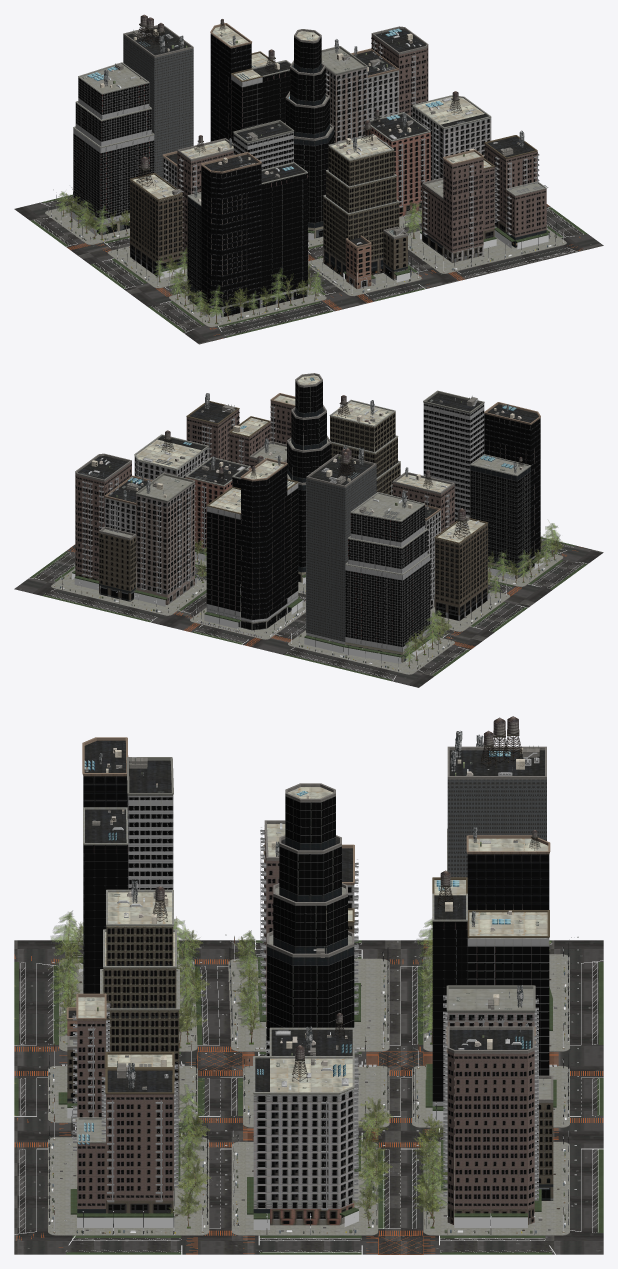
File: nyc.glb
3 views of the same model, one above another, from view 1: azimuth 30°, elevation 25°; view 2: azimuth 150°, elevation 25°; view 3: azimuth 270°, elevation 25° (orthographic). The views are drawn at different scales.
Parts seen in each view (by area): view 1: CityGen Buildings.001_2_56, CityGen Buildings_1_27, Plane.018_0_3; view 2: CityGen Buildings.001_2_56, CityGen Buildings_1_27, Plane.018_0_3; view 3: Plane.018_0_3, CityGen Buildings_1_27, CityGen Buildings.001_2_56.
Boxes of the visible parts, x1=… form: CityGen Buildings.001_2_56: x1=69, y1=14, x2=333, y2=318; CityGen Buildings_1_27: x1=129, y1=26, x2=549, y2=289; Plane.018_0_3: x1=14, y1=187, x2=603, y2=344; CityGen Buildings.001_2_56: x1=204, y1=373, x2=544, y2=663; CityGen Buildings_1_27: x1=72, y1=393, x2=489, y2=620; Plane.018_0_3: x1=14, y1=520, x2=603, y2=687; Plane.018_0_3: x1=14, y1=910, x2=603, y2=1254; CityGen Buildings_1_27: x1=58, y1=820, x2=553, y2=1229; CityGen Buildings.001_2_56: x1=79, y1=716, x2=556, y2=1121.
Bounding box in the file's own units: 248 × 112 × 196.
44 materials, 32 textured.
